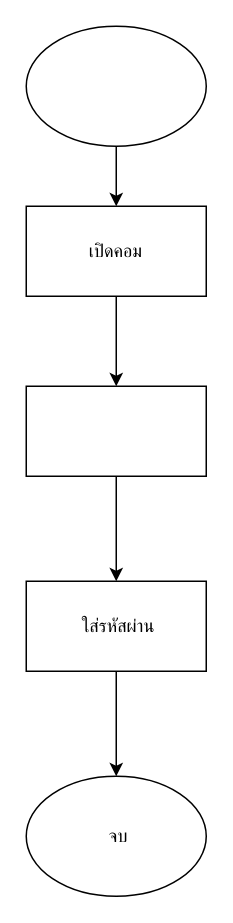
Image size: 233x923. Some labels were removed from this diagram. The centre of each missing label's shape, as x and y in pixels:
เริ่ม: the point at 115,85
เลือก OS (Fedora 38 linux-kernel6.3): the point at 115,430
